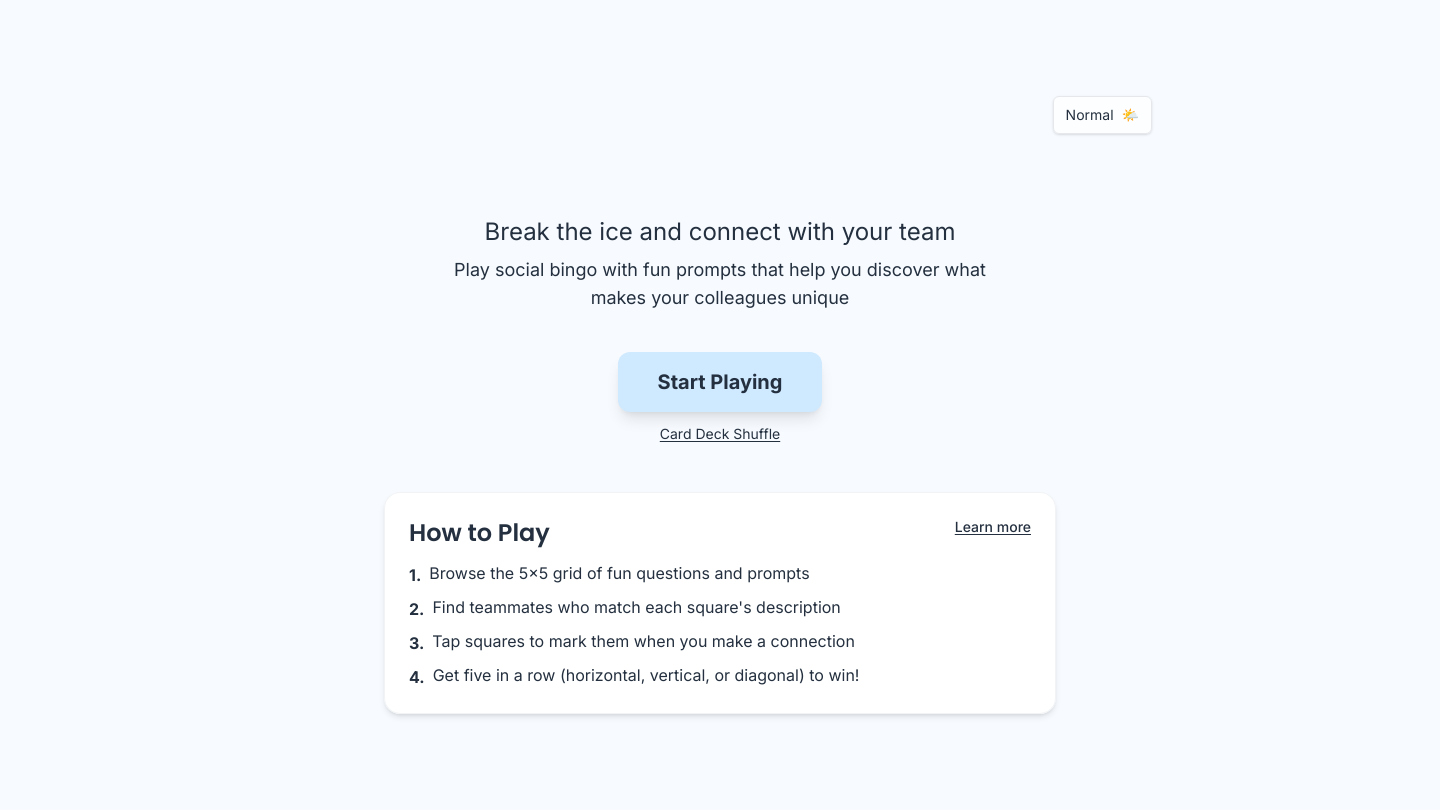
Test: StartScreenHero › should open modal when Learn more button is clicked
The width and height of the screenshot is (1440, 810).
Click the button "Learn more".
click(993, 527)  # box [955,517,1031,537]
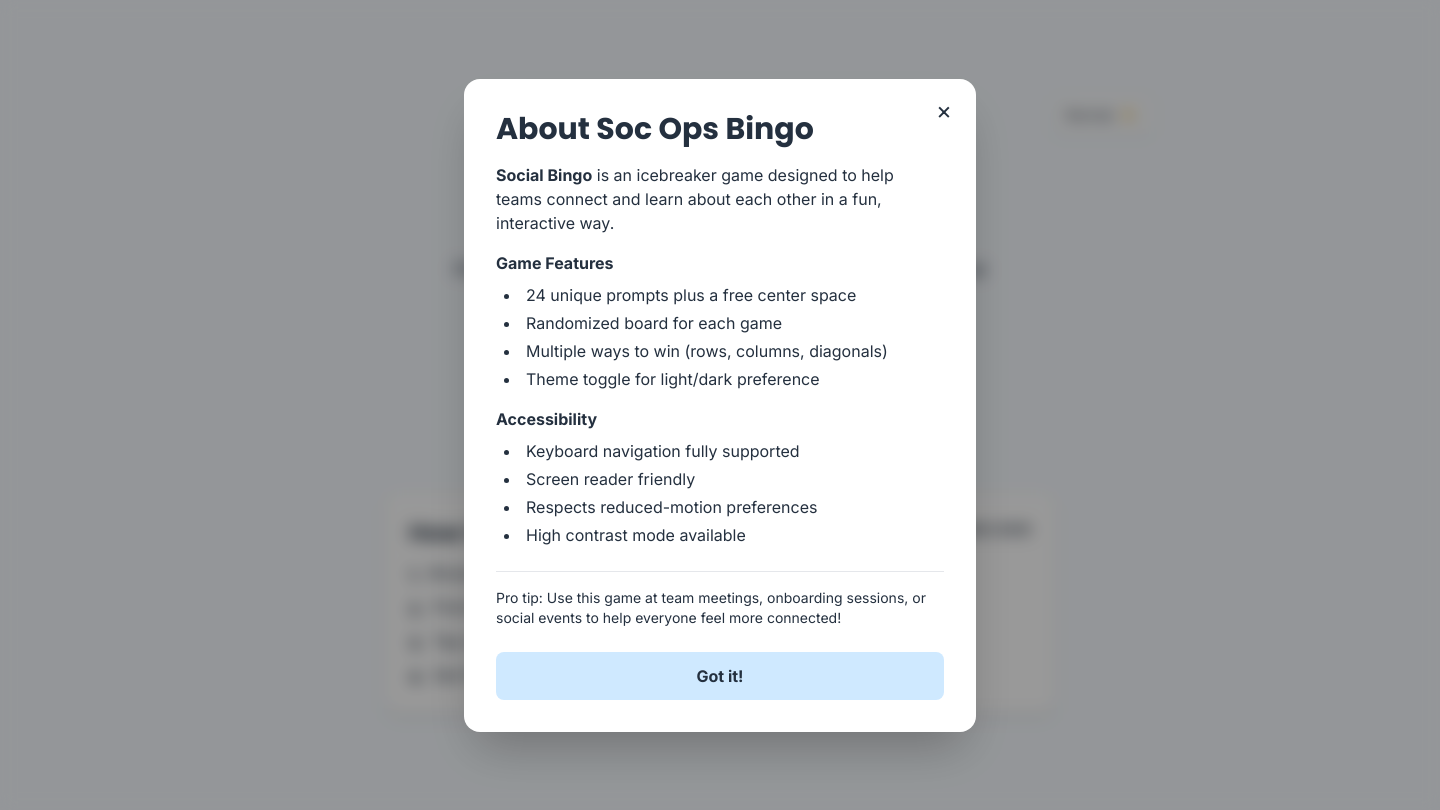
Now the dialog is shown
Now the heading "About Soc Ops Bingo" is shown, box [496,108,814,150]
